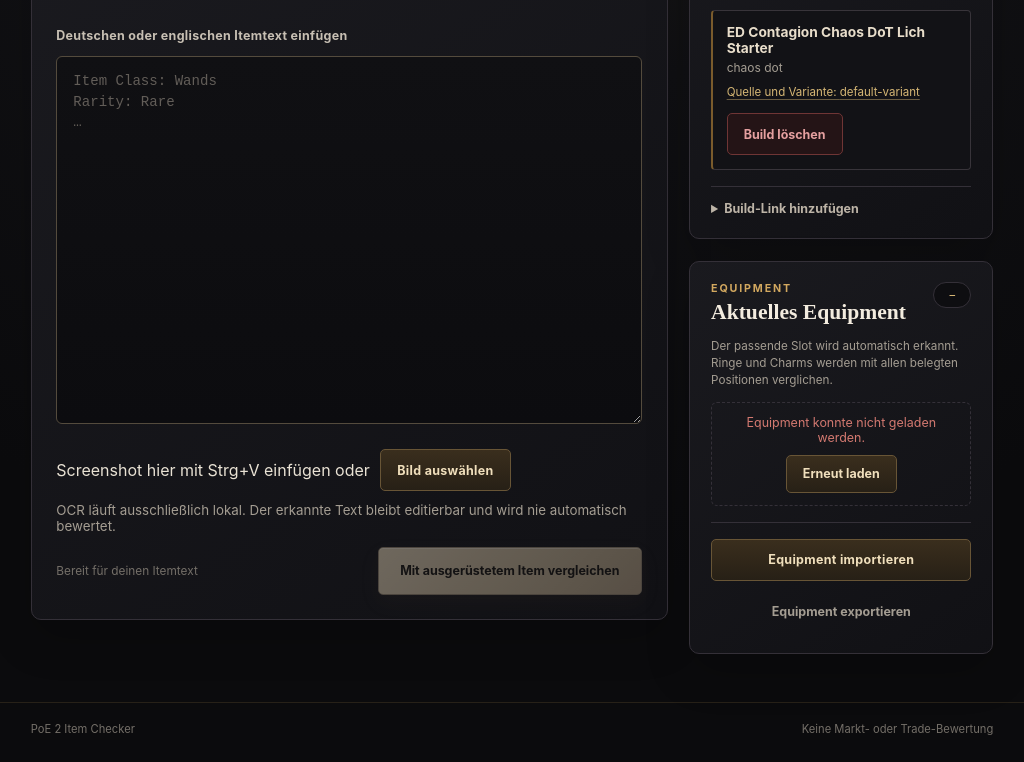
Test: API-only comparison › offers a retry when the initial equipment load fails
This screenshot has width=1024, height=762.
(page scrolled)
Expected: the text "Equipment konnte nicht geladen werden." is shown, [746,415,936,445]
Click the button "Erneut laden": x=841, y=474 [786,455,897,493]
(page scrolled)
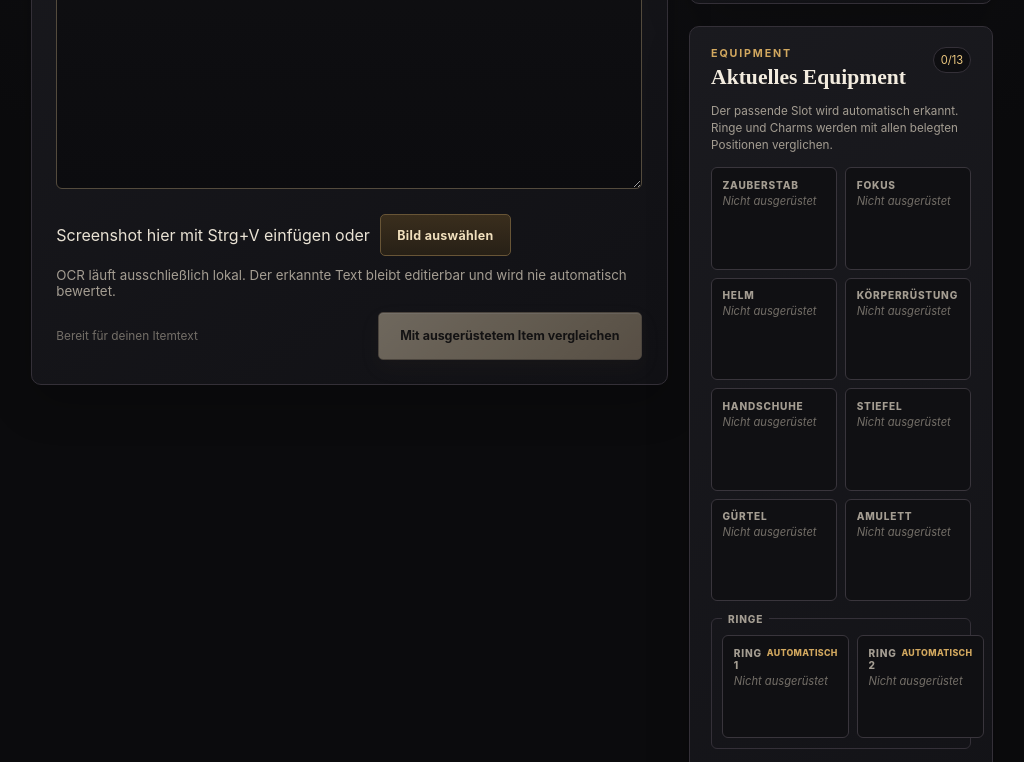
Now the list named "Aktuell ausgerüstete Items" is shown, box [711,167,972,601]
